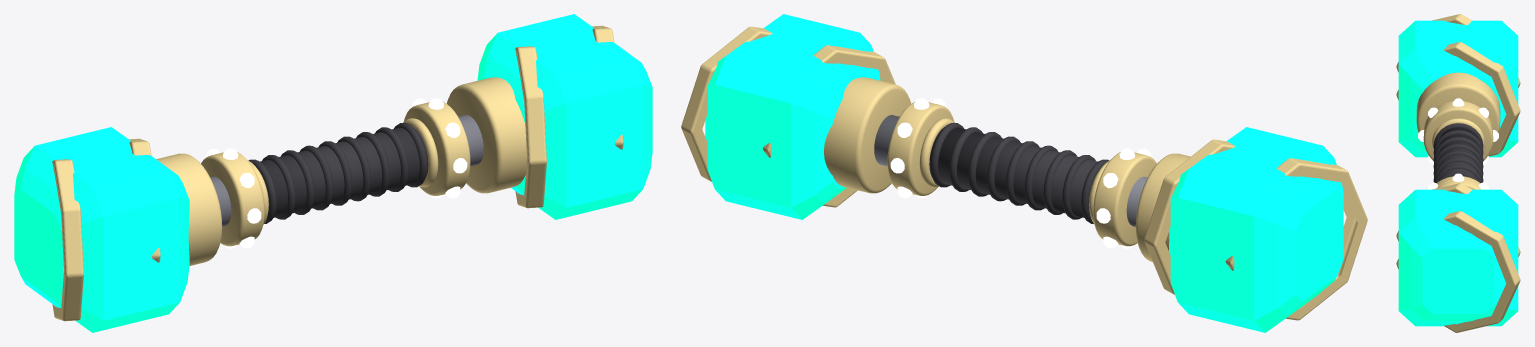
Rendered from dm_emerald700kg.glb.
3 views of the same model, side by side, from view 1: azimuth 30°, elevation 25°; view 2: azimuth 150°, elevation 25°; view 3: azimuth 270°, elevation 25° (orthographic). The views are drawn at different scales.
Parts seen in each view (by area): view 1: Emerald700kg_Gem, Emerald700kg_Gem.001, Emerald700kg_Mount.001, Emerald700kg_Grip, Emerald700kg_Mount, Emerald700kg_Bezel.002, Emerald700kg_Bezel.001, Emerald700kg_InnerCollar, Emerald700kg_InnerCollar.001, Emerald700kg_Bar, Emerald700kg_GripEnd.001, Emerald700kg_GripRing.003 (+8 smaller); view 2: Emerald700kg_Gem, Emerald700kg_Gem.001, Emerald700kg_Mount.001, Emerald700kg_Grip, Emerald700kg_Bezel.001, Emerald700kg_InnerCollar, Emerald700kg_InnerCollar.001, Emerald700kg_Bezel.003, Emerald700kg_Bezel, Emerald700kg_Mount, Emerald700kg_Bezel.002, Emerald700kg_Bar (+10 smaller); view 3: Emerald700kg_Gem.001, Emerald700kg_Gem, Emerald700kg_Mount, Emerald700kg_Bezel.003, Emerald700kg_Bezel, Emerald700kg_InnerCollar, Emerald700kg_Grip, Emerald700kg_GripEnd, Emerald700kg_InnerCollar.001, Emerald700kg_GripRing.001, Emerald700kg_GripRing, Emerald700kg_GripRing.005 (+7 smaller).
Boxes of the visible parts, <box> form: Emerald700kg_Gem: <box>14,127,189,332</box>; Emerald700kg_Gem.001: <box>477,14,652,219</box>; Emerald700kg_Mount.001: <box>446,77,526,193</box>; Emerald700kg_Grip: <box>259,127,428,217</box>; Emerald700kg_Mount: <box>156,153,222,265</box>; Emerald700kg_Bezel.002: <box>515,46,546,208</box>; Emerald700kg_Bezel.001: <box>52,159,83,321</box>; Emerald700kg_InnerCollar: <box>201,152,264,246</box>; Emerald700kg_InnerCollar.001: <box>403,102,470,195</box>; Emerald700kg_Bar: <box>210,115,483,226</box>; Emerald700kg_GripEnd.001: <box>403,118,438,187</box>; Emerald700kg_GripRing.003: <box>299,145,333,210</box>; Emerald700kg_Gem: <box>1169,127,1343,332</box>; Emerald700kg_Gem.001: <box>705,14,880,219</box>; Emerald700kg_Mount.001: <box>824,77,911,193</box>; Emerald700kg_Grip: <box>929,127,1098,217</box>; Emerald700kg_Bezel.001: <box>1225,158,1367,320</box>; Emerald700kg_InnerCollar: <box>1093,152,1156,246</box>; Emerald700kg_InnerCollar.001: <box>887,102,954,195</box>; Emerald700kg_Bezel.003: <box>681,26,772,181</box>; Emerald700kg_Bezel: <box>1144,139,1235,294</box>; Emerald700kg_Mount: <box>1135,153,1190,261</box>; Emerald700kg_Bezel.002: <box>763,45,895,207</box>; Emerald700kg_Bar: <box>874,115,1147,226</box>; Emerald700kg_Gem.001: <box>1398,189,1518,326</box>; Emerald700kg_Gem: <box>1398,20,1518,157</box>; Emerald700kg_Mount: <box>1416,72,1500,142</box>; Emerald700kg_Bezel.003: <box>1396,211,1520,332</box>; Emerald700kg_Bezel: <box>1396,42,1520,156</box>; Emerald700kg_InnerCollar: <box>1423,101,1493,160</box>; Emerald700kg_Grip: <box>1438,127,1478,180</box>; Emerald700kg_GripEnd: <box>1432,118,1484,150</box>; Emerald700kg_InnerCollar.001: <box>1437,176,1480,189</box>; Emerald700kg_GripRing.001: <box>1433,130,1483,155</box>; Emerald700kg_GripRing: <box>1433,123,1483,148</box>; Emerald700kg_GripRing.005: <box>1433,157,1483,182</box>.
Size of the model in its own units: 4 by 0.9807 by 0.9395.
